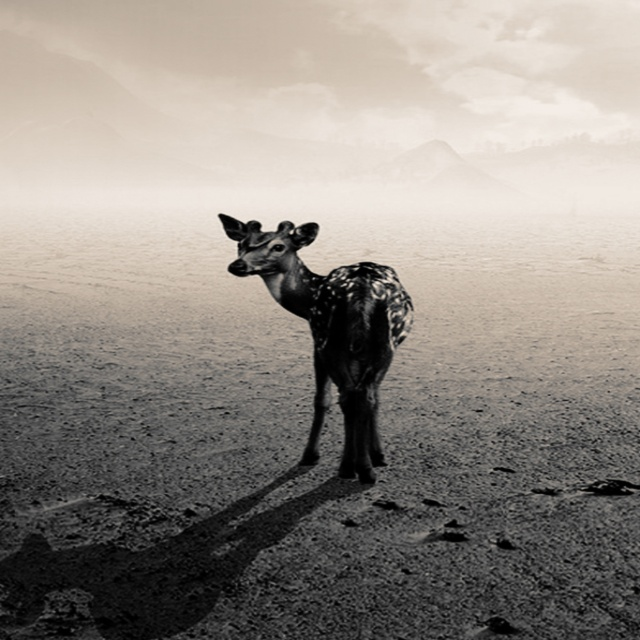Deer: (214, 212, 421, 476)
